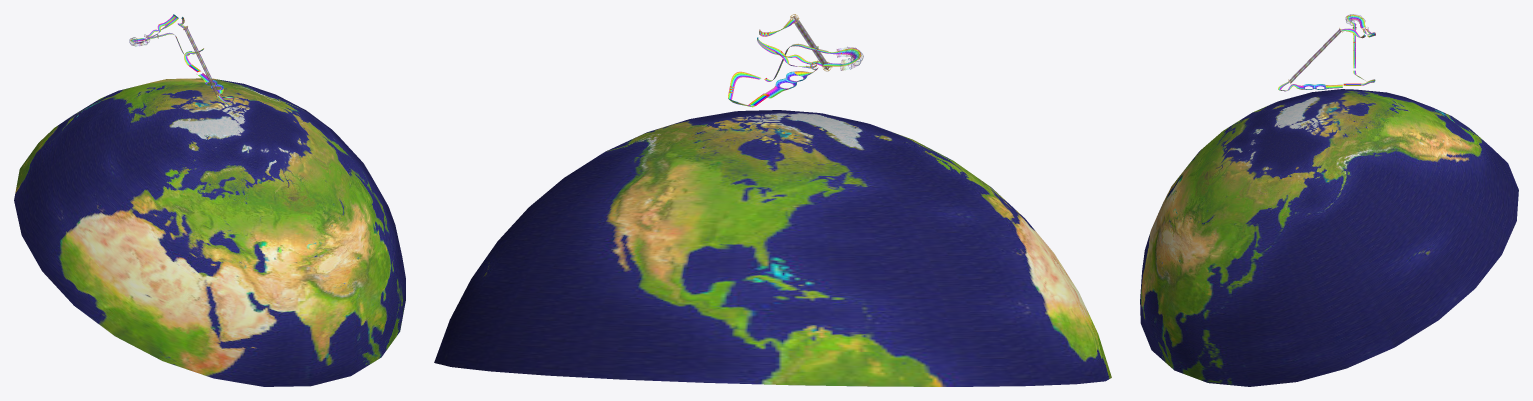
The picture shows the model from 3 angles, left to right: view 1: azimuth 30°, elevation 25°; view 2: azimuth 150°, elevation 25°; view 3: azimuth 270°, elevation 25°; orthographic projection. The views are drawn at different scales.
Parts seen in each view (by area): view 1: RRWii_obj_cleaner_materialmerger_gles; view 2: RRWii_obj_cleaner_materialmerger_gles; view 3: RRWii_obj_cleaner_materialmerger_gles.
Boxes of the visible parts, box(x1,y1,x2,y2) form: RRWii_obj_cleaner_materialmerger_gles: box(14, 14, 405, 386); RRWii_obj_cleaner_materialmerger_gles: box(434, 14, 1111, 386); RRWii_obj_cleaner_materialmerger_gles: box(1140, 14, 1518, 386).
Size of the model in its own units: 3.73 by 3 by 3.55.
Materials: 15 (15 with a texture image).
